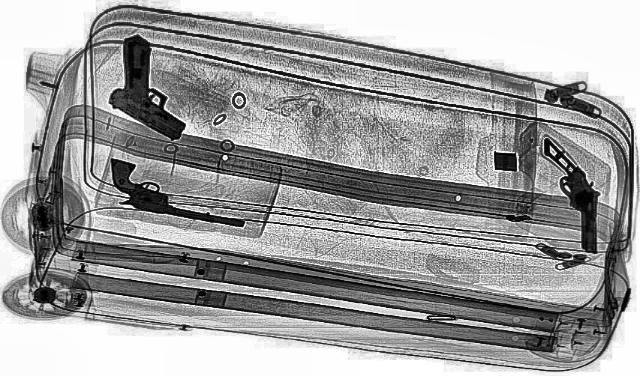Gun: (83, 156, 270, 230), (92, 34, 188, 142), (536, 132, 620, 254)
